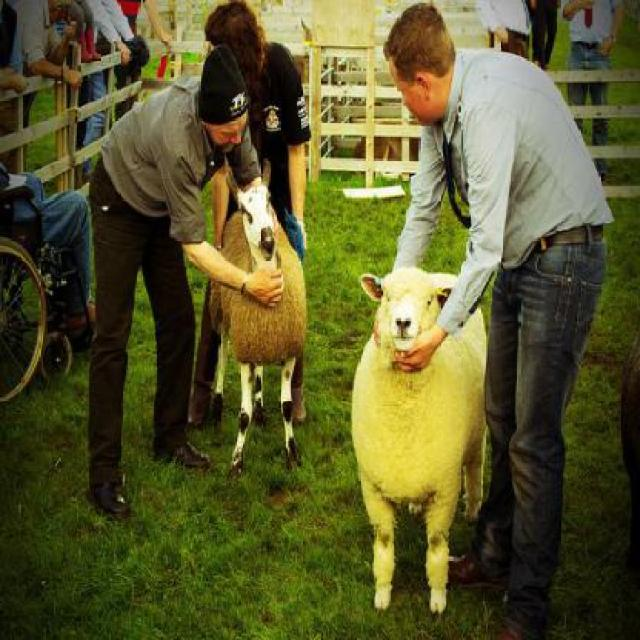Person: (382, 2, 610, 630), (86, 72, 289, 519), (184, 0, 310, 428), (0, 166, 94, 339), (0, 0, 81, 172), (557, 0, 623, 183), (80, 0, 134, 145), (474, 0, 529, 57), (0, 0, 31, 95), (115, 0, 170, 51), (526, 0, 560, 66), (67, 0, 99, 62)
